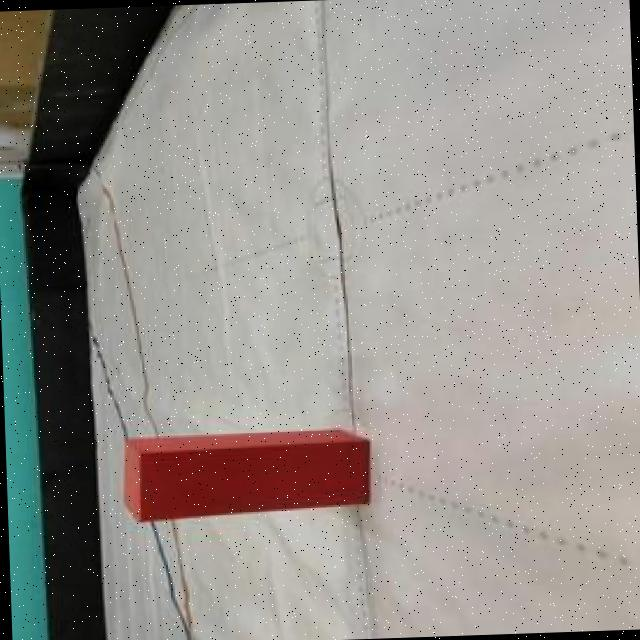redbox: (119, 428, 374, 525)
